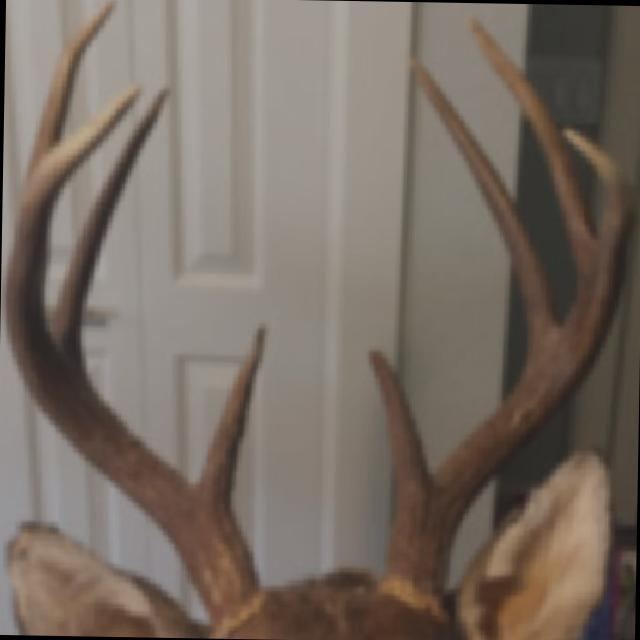L-F: (381, 126, 624, 596)
L-G1: (365, 346, 431, 502)
L-G2: (406, 58, 559, 355)
L-G3: (465, 14, 599, 277)
R-G1: (195, 322, 268, 513)
R-G2: (49, 87, 171, 376)
R-G3: (27, 0, 120, 176)
R-G4: (5, 81, 260, 638)
